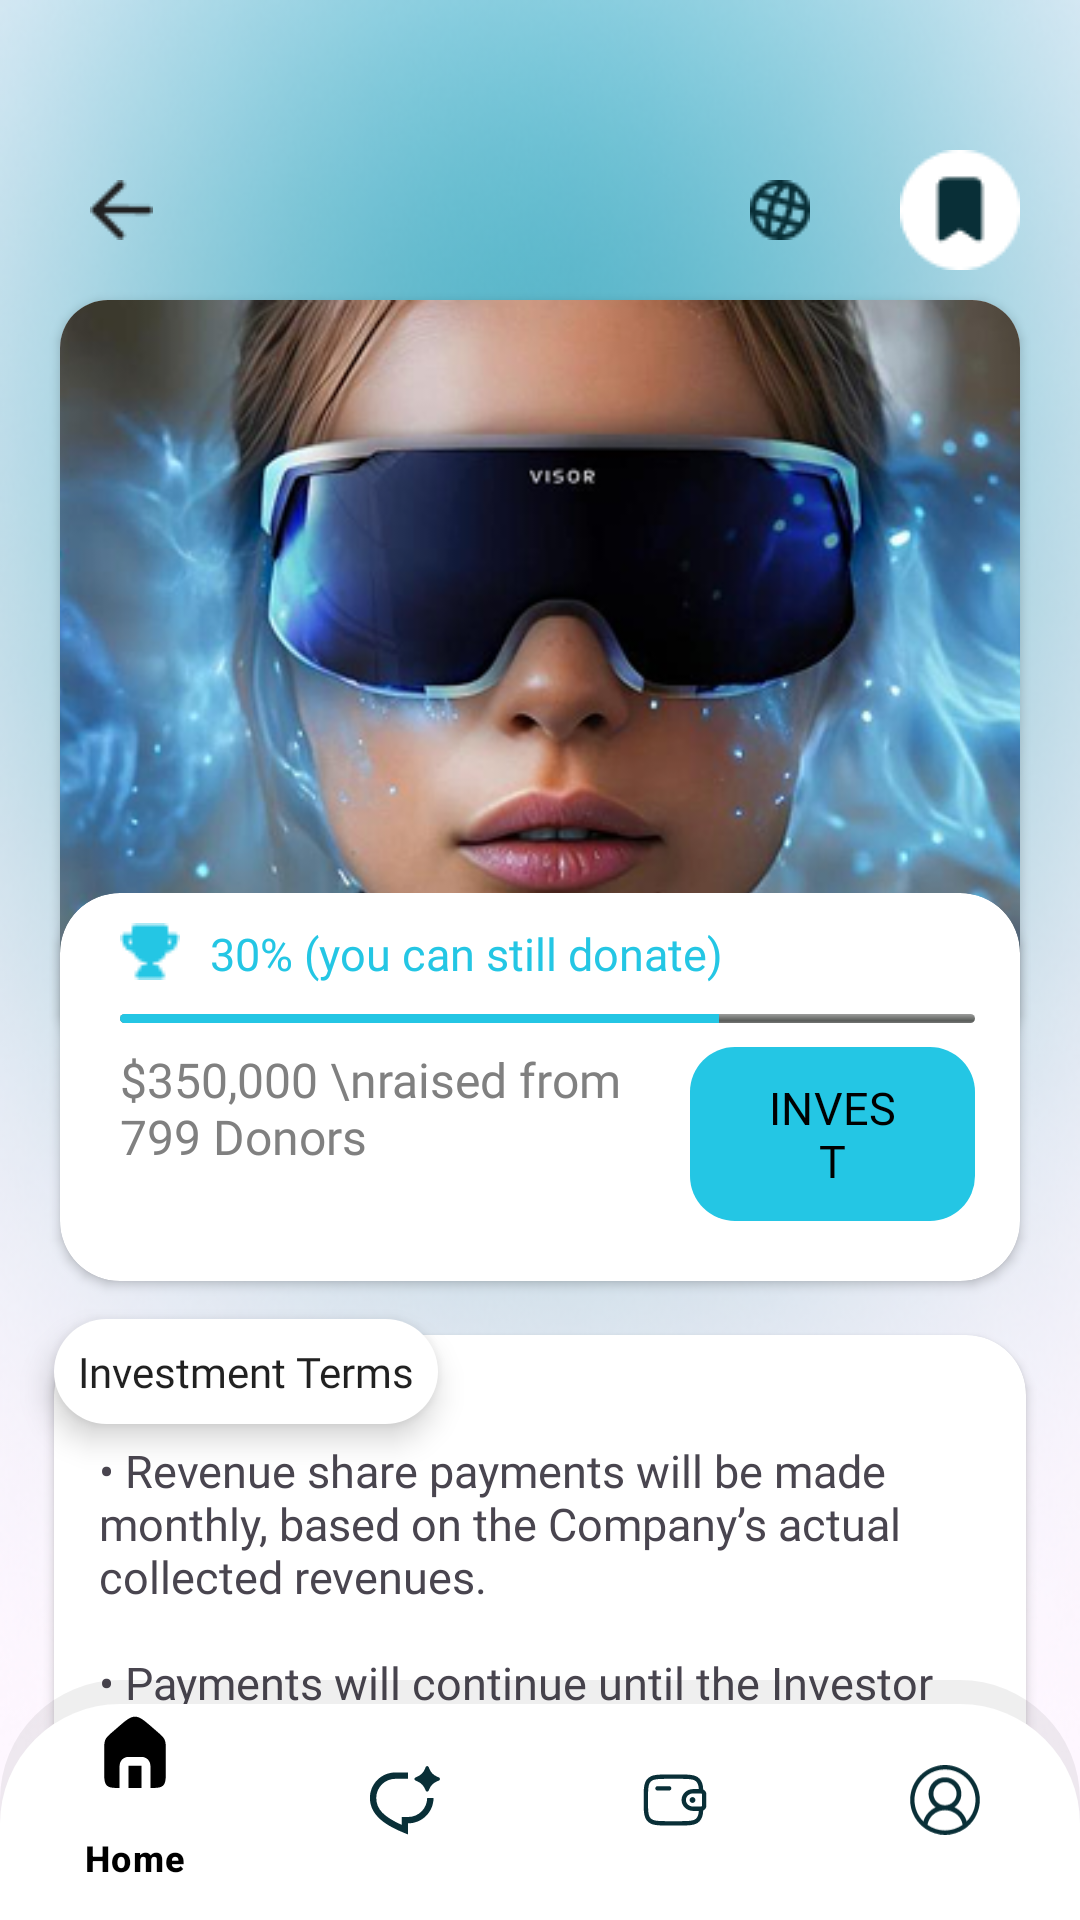

Screen size 1080px x 1920px. Icon name, then its box in pixels as (x1, y1, x2, y2):
cup: (120, 923, 180, 980)
save: (900, 150, 1020, 270)
